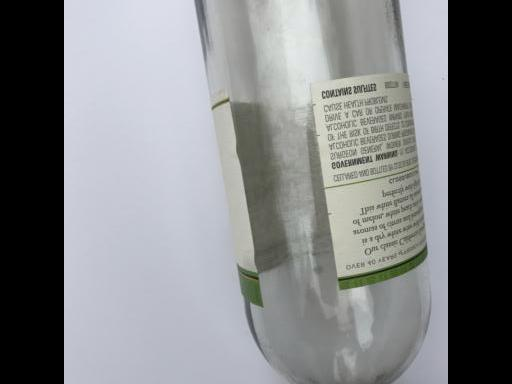alcohol: (181, 0, 431, 384)
glass: (181, 0, 431, 384)
sodocalcique: (181, 0, 431, 384)
